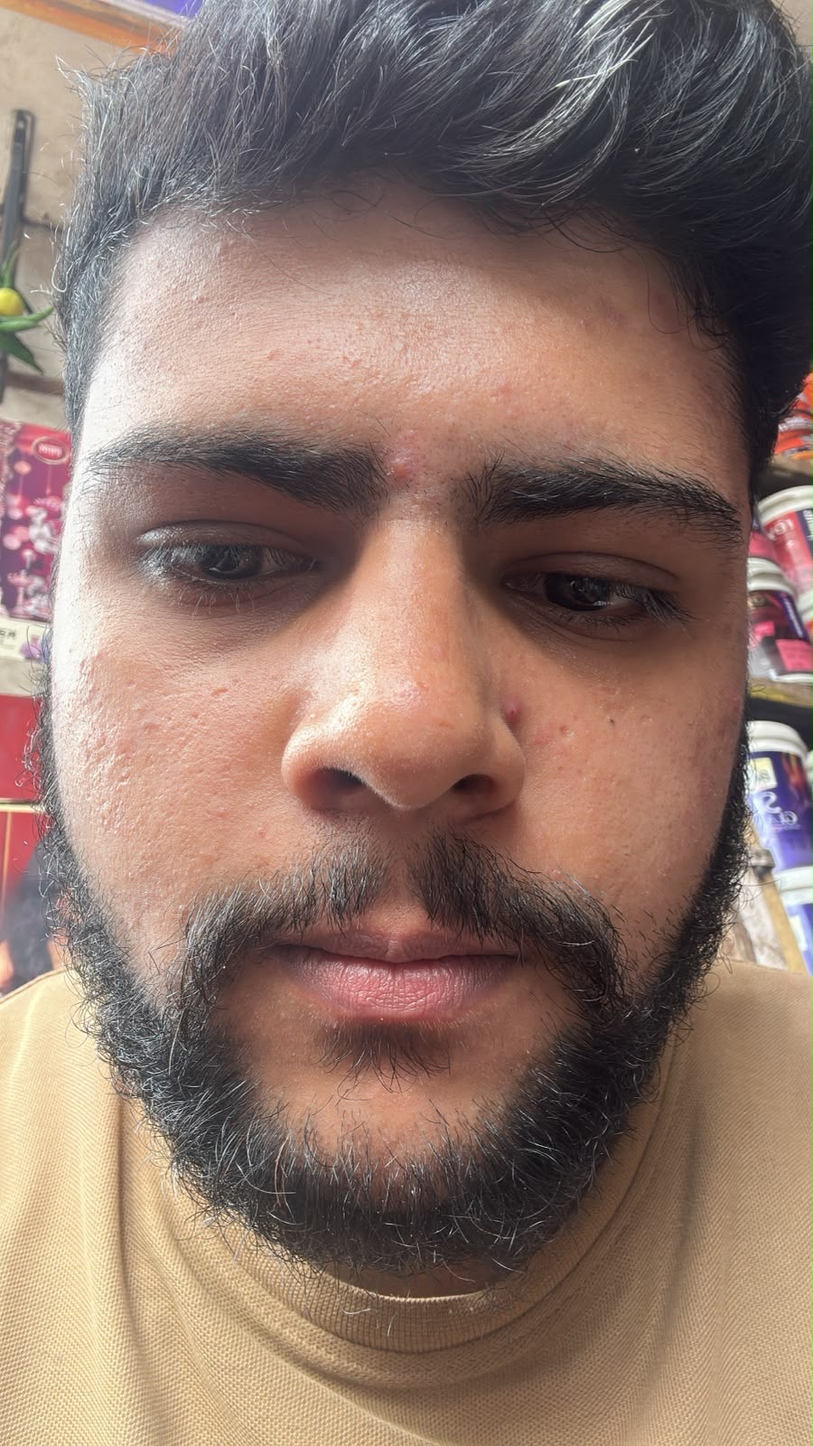closed_comedone: (347, 316, 368, 341), (322, 1019, 348, 1036), (87, 646, 108, 661)
macrocomedone: (491, 377, 521, 400)
papule: (384, 449, 411, 484), (502, 694, 530, 726)
